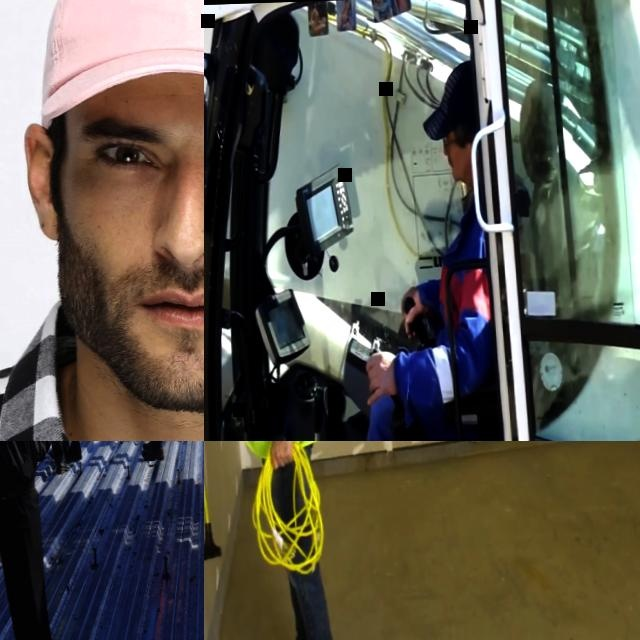NO-Hardhat: (32, 0, 204, 158), (437, 60, 479, 140)
NO-Mask: (70, 251, 204, 412), (446, 150, 470, 178)
Person: (0, 0, 204, 441), (340, 64, 506, 441), (204, 441, 334, 640), (0, 441, 71, 640)
Safety Vest: (427, 216, 492, 415)
machinery: (204, 0, 640, 441)
